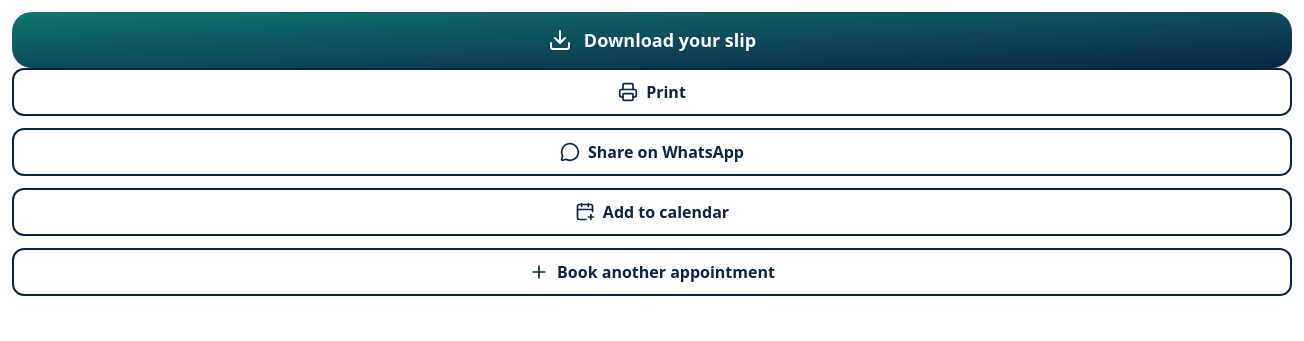
confirmation actions › downloads the PDF on a desktop even when file sharing exists
The image size is (1304, 341).
Click the button "Download your slip".
click(652, 40)  # box [12, 12, 1292, 68]
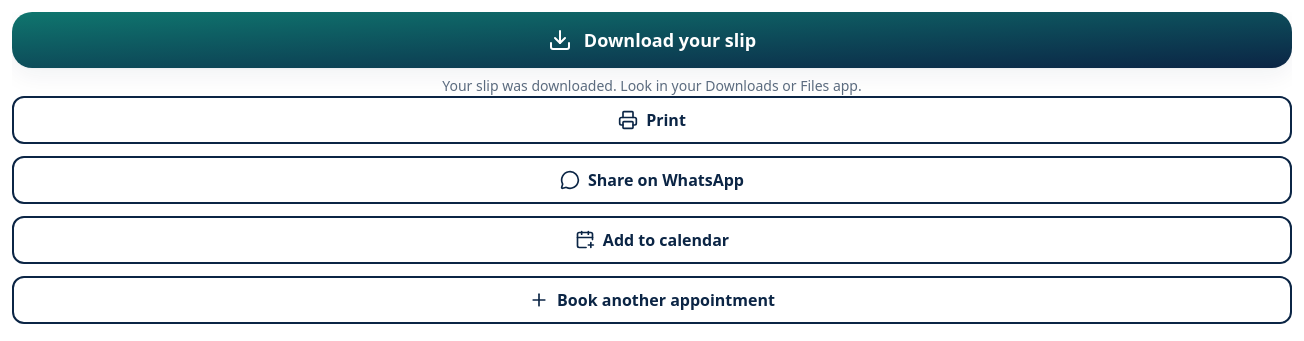
expect the message shows "Your slip was downloaded": met, box [442, 76, 862, 95]
